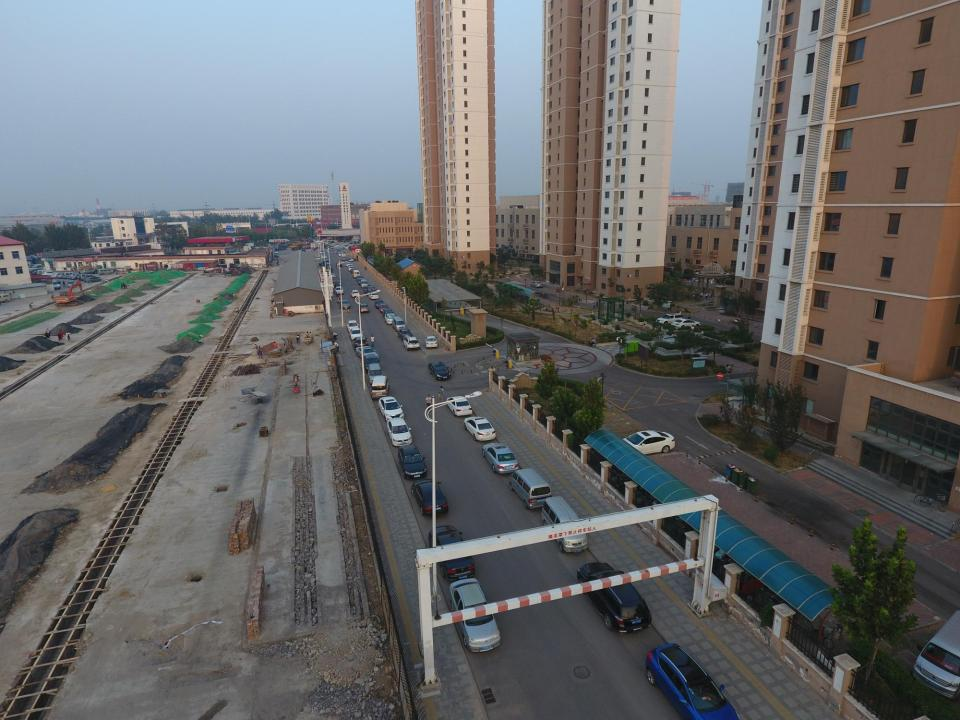car: (645, 642, 739, 720), (576, 561, 652, 635), (449, 578, 502, 652), (428, 524, 475, 580), (611, 431, 675, 456), (411, 478, 448, 516), (482, 442, 519, 474), (398, 444, 427, 478), (464, 416, 496, 441), (387, 418, 412, 446), (378, 396, 404, 421), (447, 397, 472, 416), (428, 361, 451, 381), (656, 312, 683, 326), (356, 346, 379, 362), (671, 318, 700, 330), (363, 354, 381, 373), (403, 336, 420, 351), (353, 336, 368, 351), (397, 329, 413, 341), (424, 336, 438, 348), (350, 328, 363, 340), (385, 313, 397, 325), (348, 320, 359, 332), (383, 308, 395, 318), (83, 277, 101, 283), (379, 303, 389, 313), (358, 304, 369, 313), (49, 280, 60, 289), (77, 274, 93, 280), (374, 299, 384, 308), (334, 286, 344, 295), (368, 292, 379, 300), (530, 281, 542, 288), (43, 271, 57, 277), (50, 272, 64, 278), (66, 274, 80, 280), (340, 300, 350, 308), (350, 290, 360, 298), (84, 275, 100, 280), (79, 269, 94, 274), (70, 274, 82, 280), (57, 273, 68, 279), (164, 250, 177, 255), (67, 280, 75, 288), (532, 258, 542, 264), (91, 269, 102, 274), (356, 276, 363, 282), (358, 279, 364, 285), (350, 268, 356, 274), (336, 261, 342, 267), (329, 273, 336, 278), (348, 266, 354, 271), (346, 262, 352, 266), (348, 264, 353, 268)
truck: (363, 286, 377, 296), (332, 277, 341, 287), (245, 243, 254, 248)
van: (911, 605, 960, 699), (542, 496, 587, 554), (509, 468, 552, 510), (371, 376, 390, 397), (368, 363, 383, 384), (392, 316, 406, 332), (0, 293, 11, 302), (97, 269, 113, 275), (62, 272, 76, 278), (361, 279, 368, 288), (353, 270, 359, 278)
